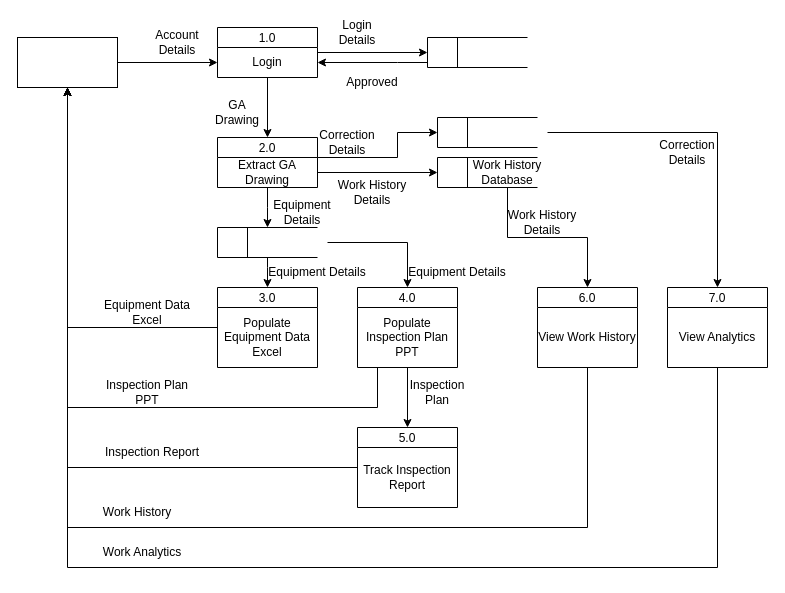
The diagram is 785 pixels wide and 593 high, and some of its shapes have lost their labels. Here are the shapes that lost their labels. From the top down, the box of each, then its label:
(16, 36, 118, 88): Engineer
(426, 36, 528, 68): User Account Database
(436, 116, 538, 148): Correction Log Database
(216, 226, 318, 258): Equipment Database
